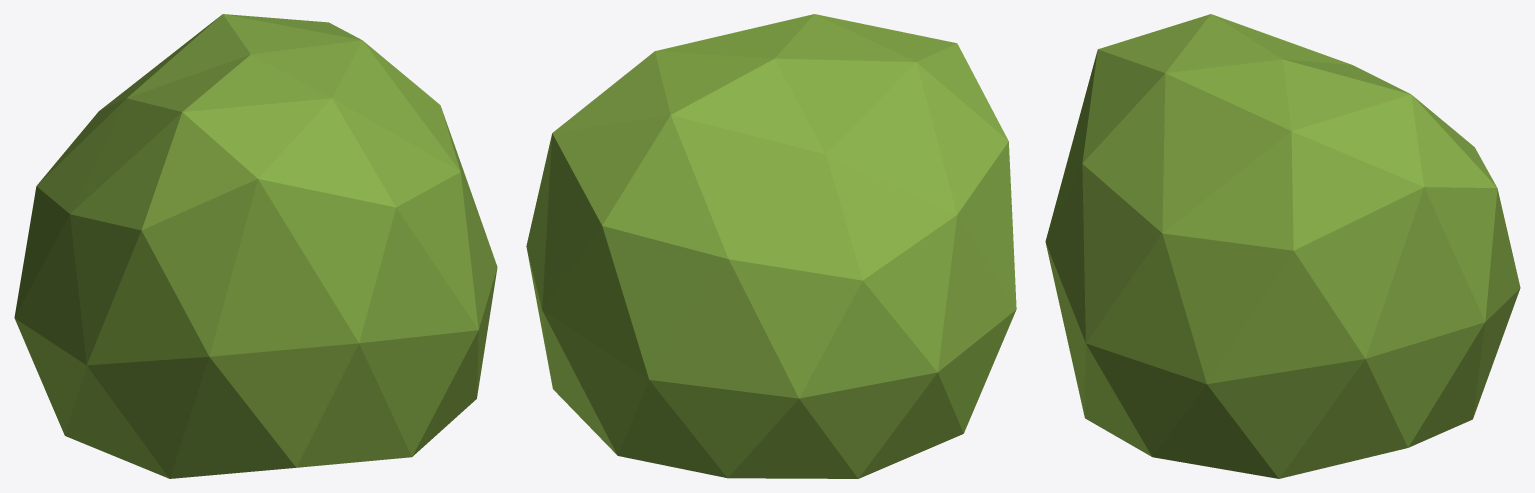
The model's file is Bush_02.fbx.
The picture shows the model from 3 angles, left to right: view 1: azimuth 30°, elevation 25°; view 2: azimuth 150°, elevation 25°; view 3: azimuth 270°, elevation 25°; orthographic projection. The views are drawn at different scales.
Parts seen in each view (by area): view 1: Bush_02; view 2: Bush_02; view 3: Bush_02.
Part boxes in pixels (x1,y1,x2,y2): Bush_02: [14, 14, 497, 478]; Bush_02: [526, 14, 1016, 478]; Bush_02: [1045, 14, 1520, 478].
Bounding box in the file's own units: 57.14 × 48.02 × 59.06.
